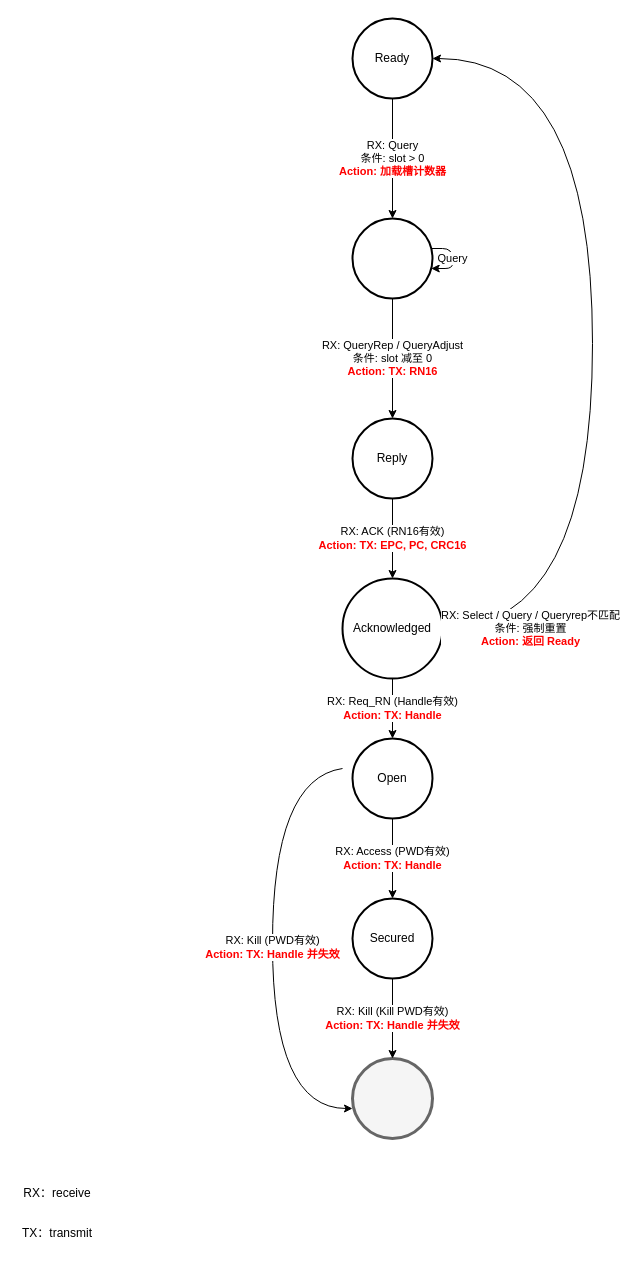
This 637x1265 diagram has some shape labels left out. The box of each missing label's shape, as (x1, y1, x2, y2) in pixels:
Arbitrate: (351, 217, 433, 299)
Killed: (350, 1056, 434, 1140)
